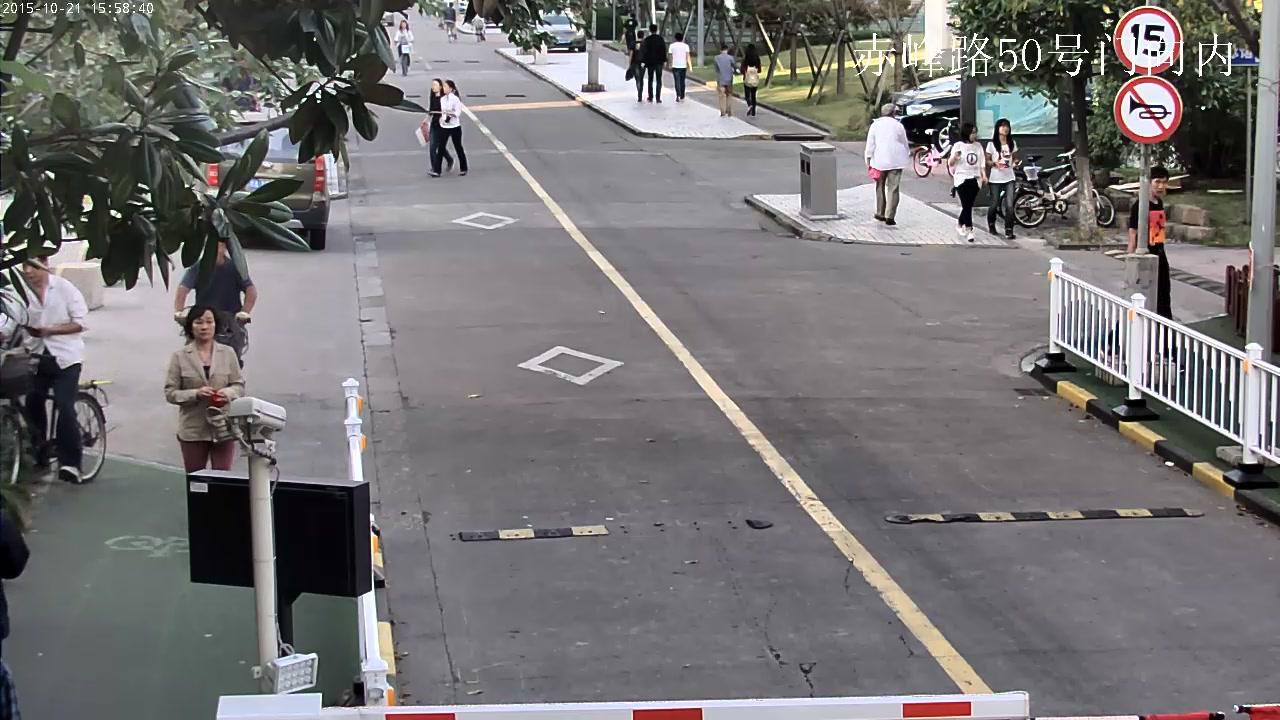person: (0, 251, 105, 486), (1103, 166, 1186, 376), (18, 254, 90, 485), (164, 304, 245, 470), (173, 239, 257, 383), (174, 240, 257, 365), (864, 102, 910, 225), (946, 121, 987, 242), (984, 118, 1021, 239), (428, 78, 469, 177), (426, 77, 454, 173), (641, 23, 665, 102), (667, 32, 692, 102), (740, 43, 761, 117), (625, 30, 646, 102), (713, 44, 734, 116), (393, 19, 414, 75), (394, 19, 414, 66), (441, 1, 456, 43), (624, 12, 638, 55), (442, 2, 456, 38)
